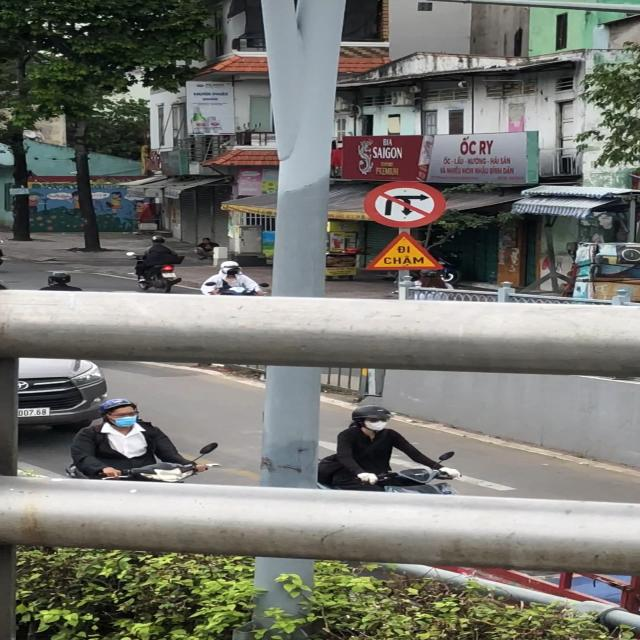Bien bao cam re phai va quay dau: (362, 179, 448, 230)
